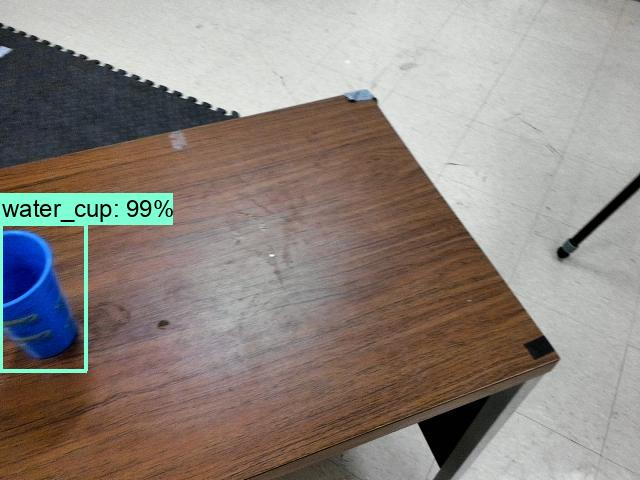water_cup: (1, 224, 86, 366)
